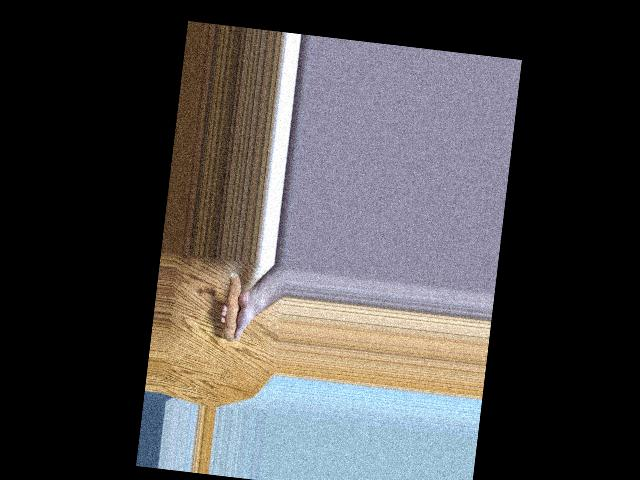sweet_potato: (221, 271, 250, 343)
